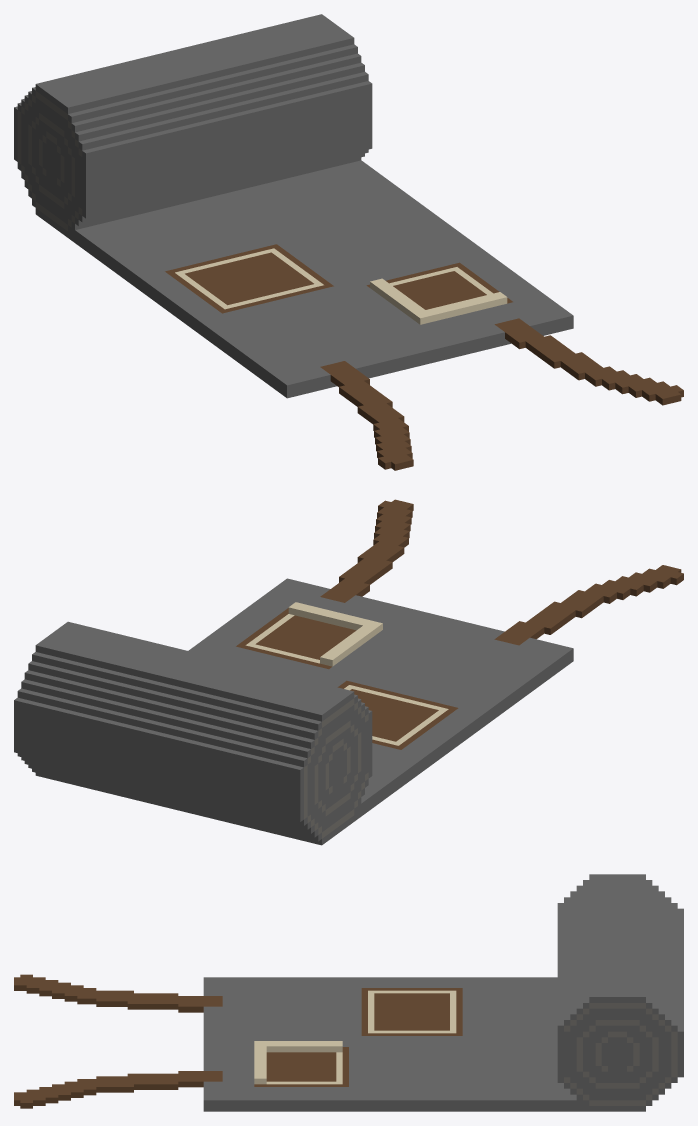
The model's file is bellywrap_wool.glb.
3 views of the same model, one above another, from view 1: azimuth 30°, elevation 25°; view 2: azimuth 150°, elevation 25°; view 3: azimuth 270°, elevation 25° (orthographic). The views are drawn at different scales.
Parts seen in each view (by area): view 1: bellywrap_wool:compound; view 2: bellywrap_wool:compound; view 3: bellywrap_wool:compound.
Part boxes in pixels (<box>): bellywrap_wool:compound: <box>14,14,683,470</box>; bellywrap_wool:compound: <box>14,499,683,845</box>; bellywrap_wool:compound: <box>14,874,683,1111</box>.
Bounding box in the file's own units: 0.192 × 0.08 × 0.424.
